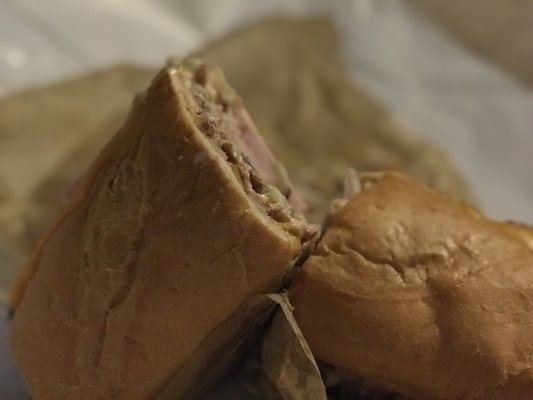soup: (4, 55, 321, 400), (286, 172, 533, 400)
